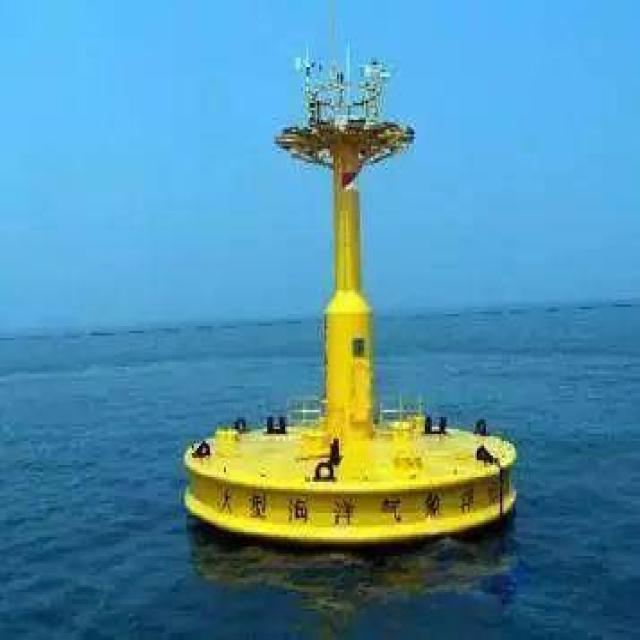buoy: (181, 36, 519, 553)
